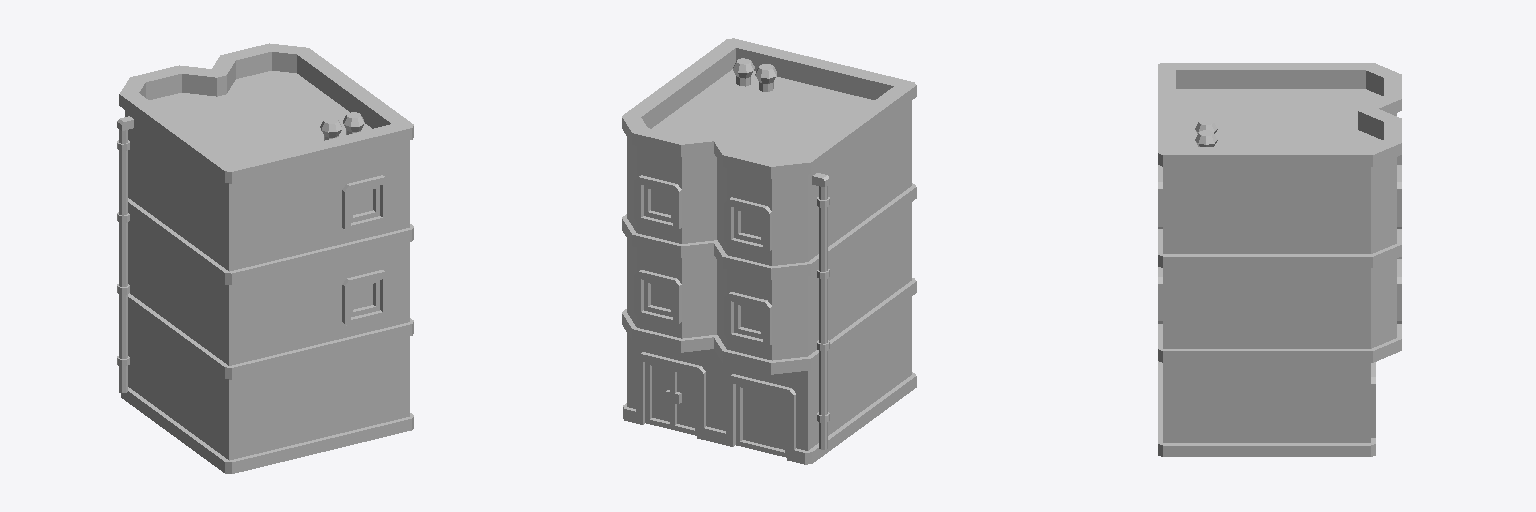
File: commercial_building-a.obj
3 views of the same model, side by side, from view 1: azimuth 30°, elevation 25°; view 2: azimuth 150°, elevation 25°; view 3: azimuth 270°, elevation 25° (orthographic).
Visible parts, largest first — view 1: building-a; view 2: building-a; view 3: building-a.
Part boxes in pixels (left/top/right/bottom): building-a: left=117, top=43, right=413, bottom=473; building-a: left=622, top=38, right=916, bottom=464; building-a: left=1158, top=63, right=1401, bottom=456.
Size of the model in its own units: 0.8836 by 1.29 by 0.94.